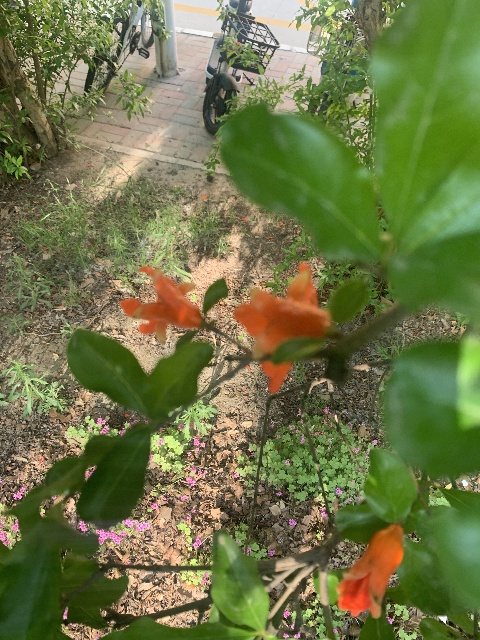flower: (233, 261, 332, 392), (120, 265, 202, 343), (336, 523, 404, 617)
